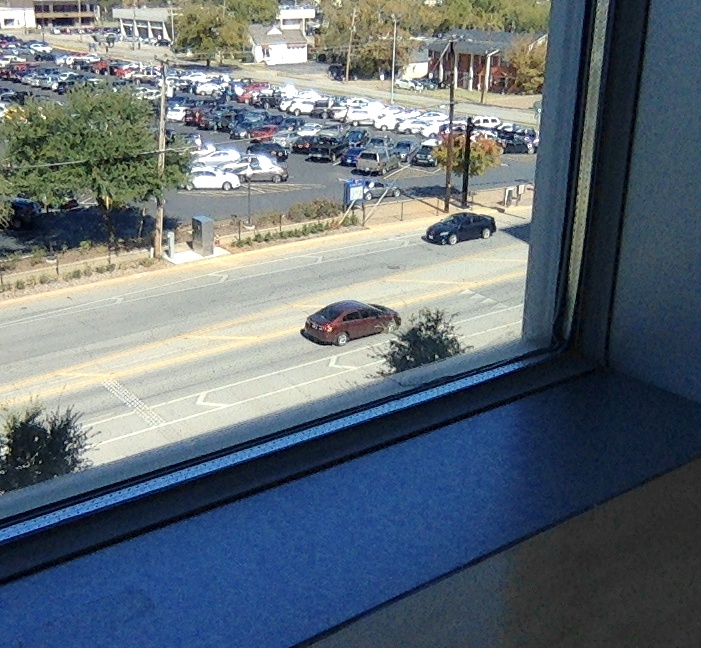car: (300, 300, 401, 348)
